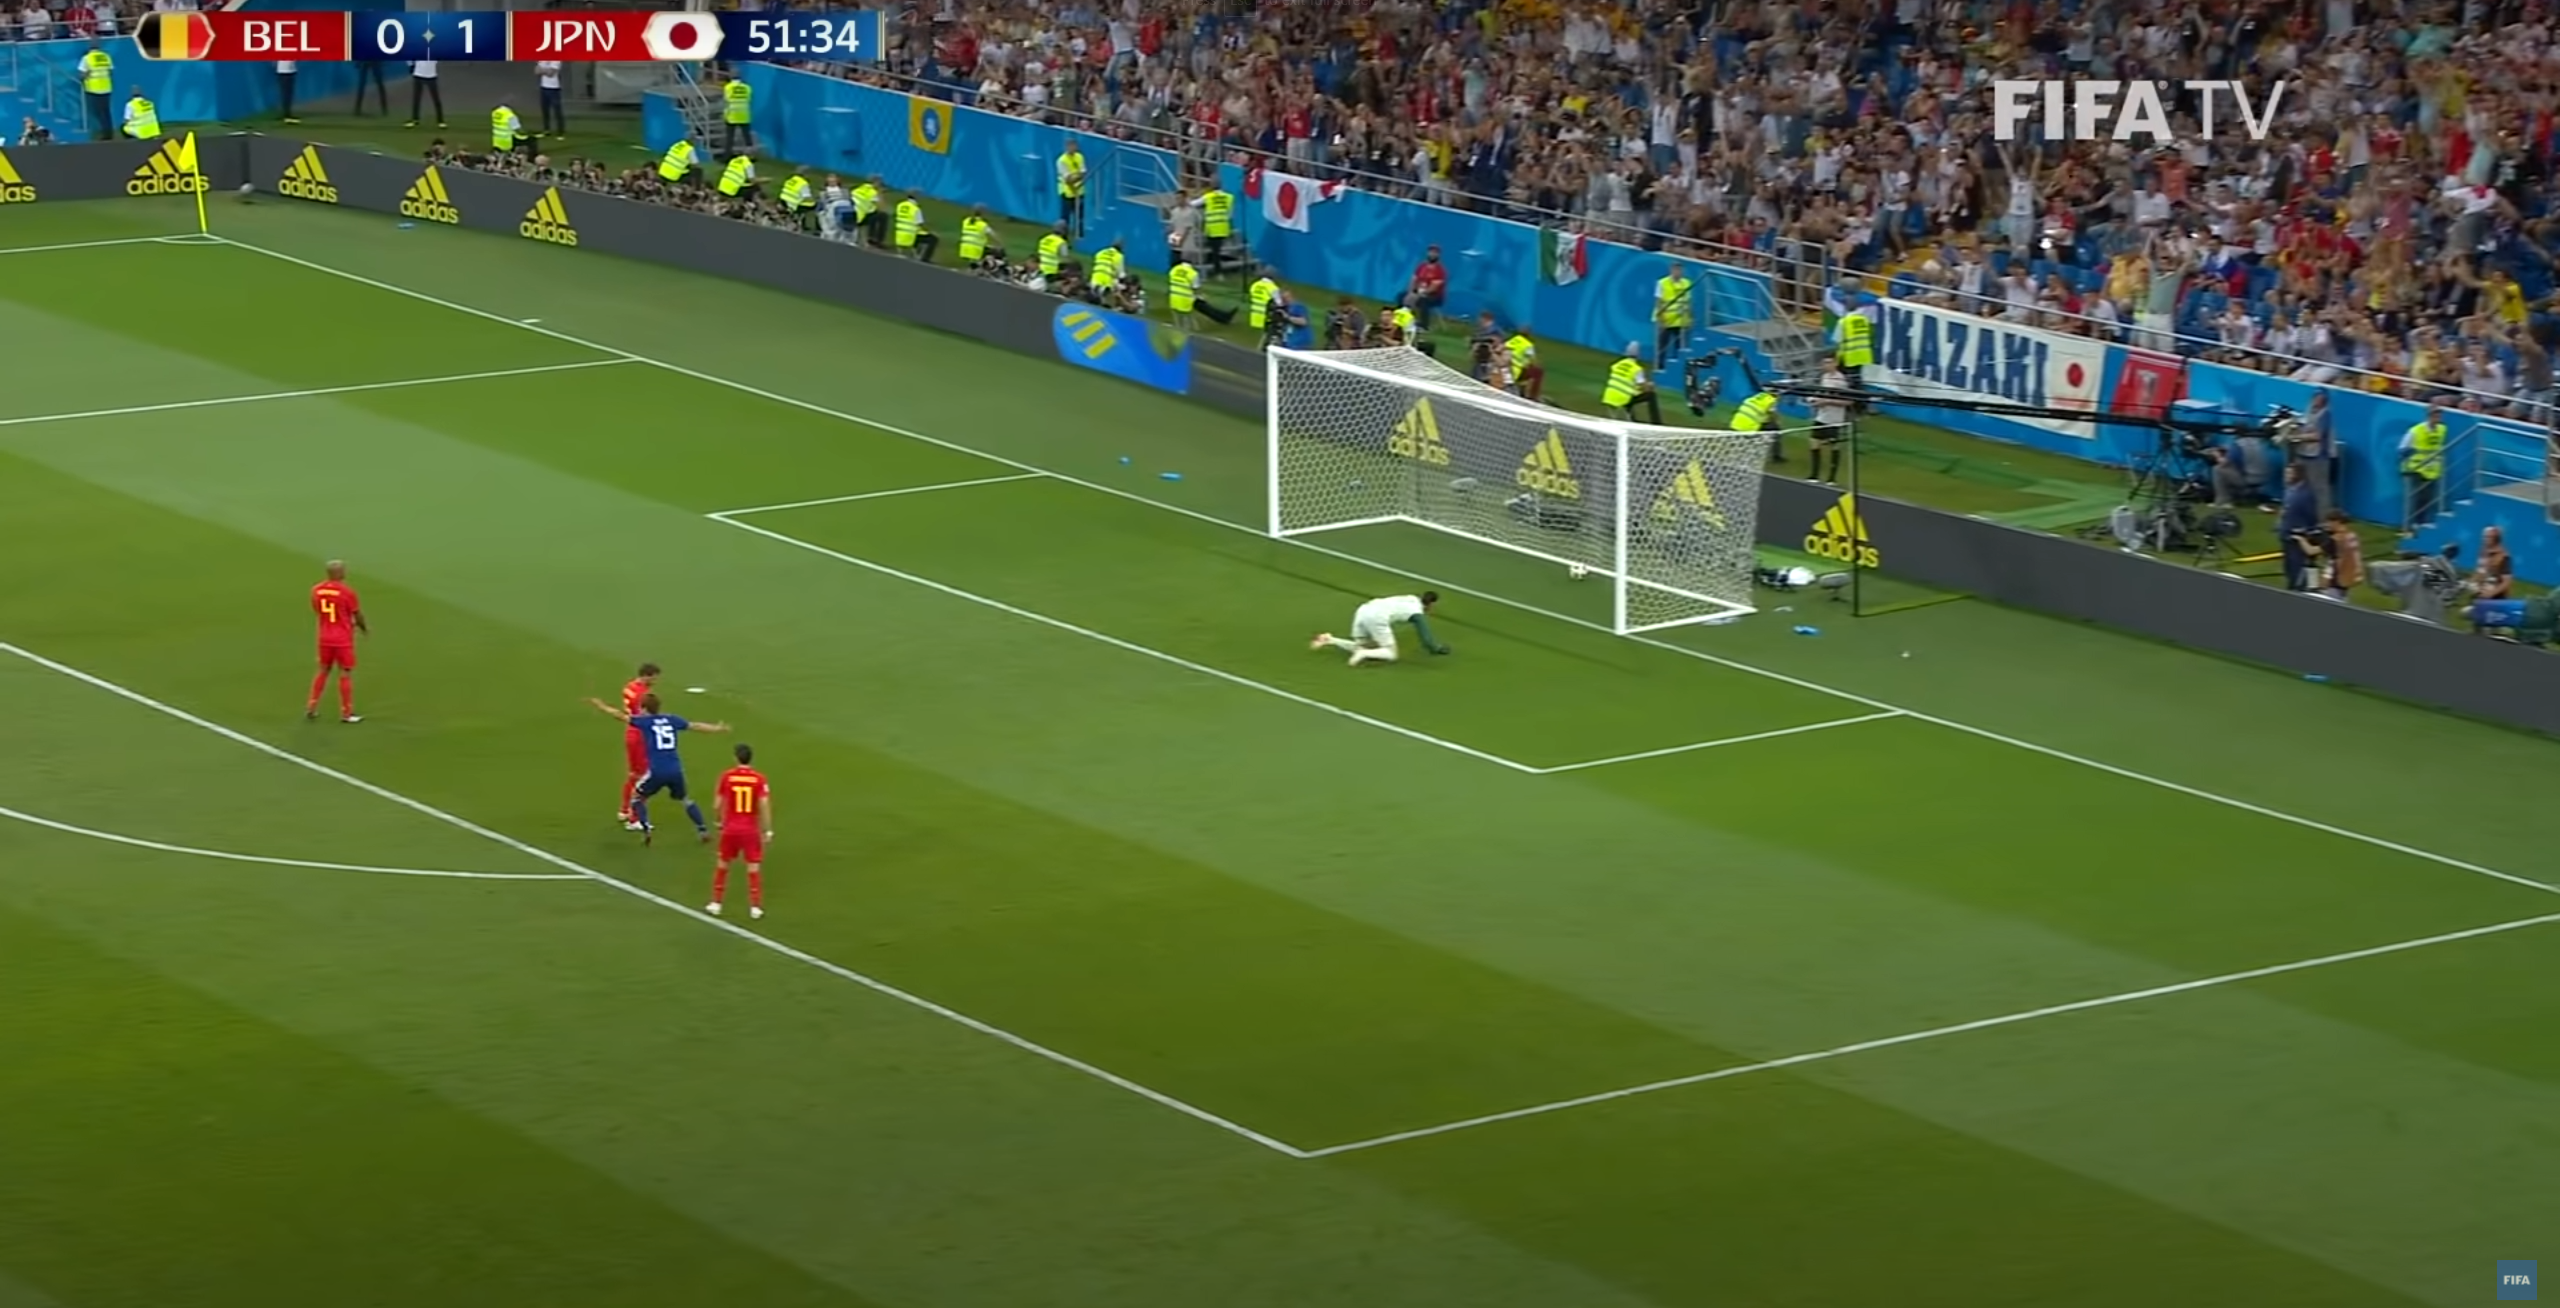Ball: (1564, 562, 1591, 587)
Goalie: (1311, 591, 1449, 667)
Team A: (704, 746, 776, 923), (305, 561, 370, 724), (615, 664, 660, 834)
Team B: (580, 696, 734, 844)
